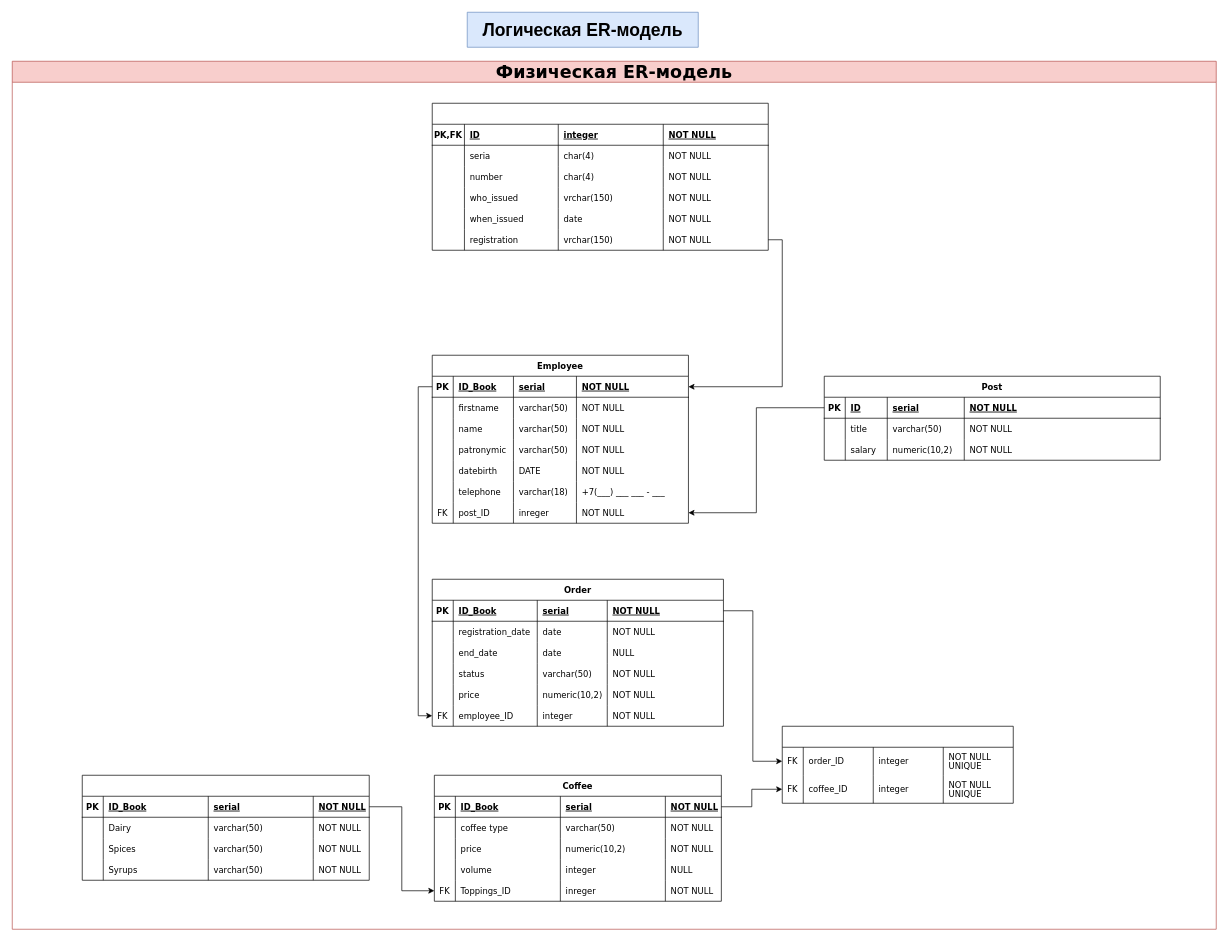
This 1229x942 diagram has some shape labels left out. Each missing label, with the box of its shape:
Order_Coffee: (782, 726, 1013, 803)
Passport: (432, 103, 768, 250)
Toppings: (82, 775, 369, 880)
